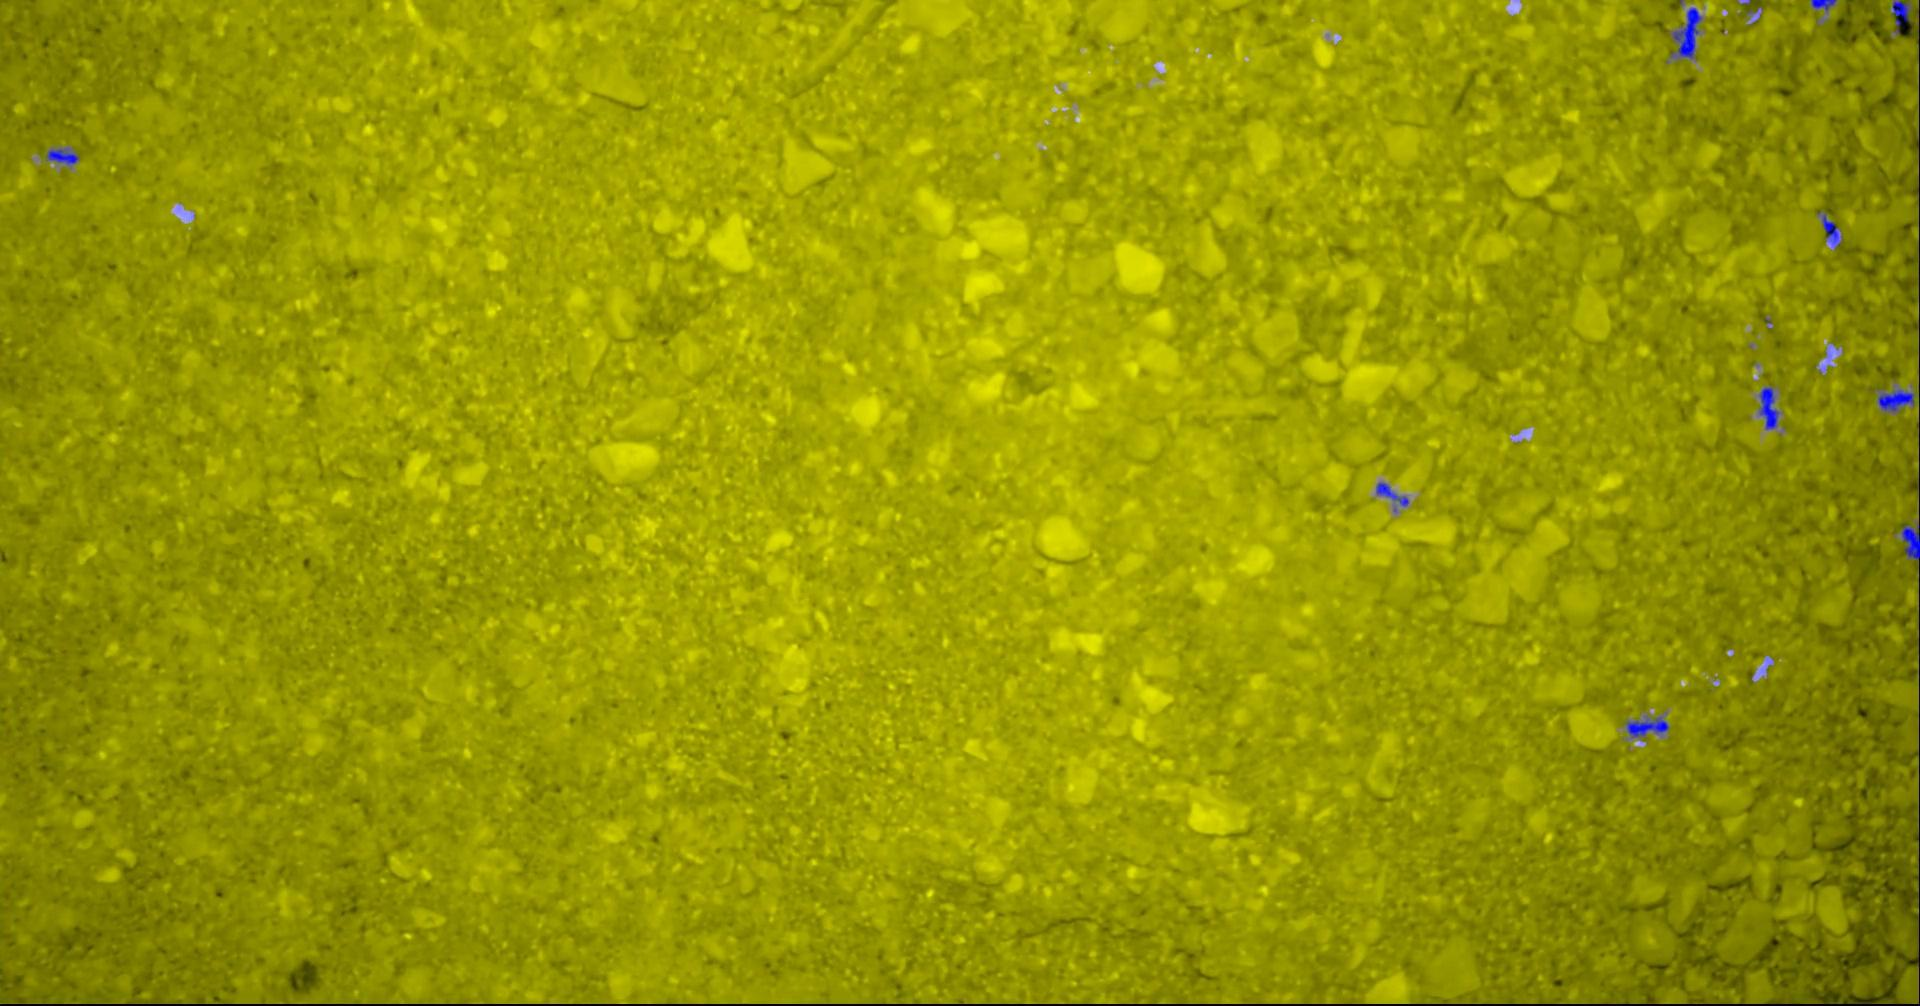ant: (1674, 8, 1703, 58), (1879, 387, 1916, 412), (1627, 716, 1670, 737), (1761, 387, 1780, 429), (1377, 481, 1410, 506), (1903, 525, 1920, 569), (1893, 0, 1912, 33), (1823, 213, 1841, 248), (48, 149, 80, 165), (1812, 0, 1837, 10)
